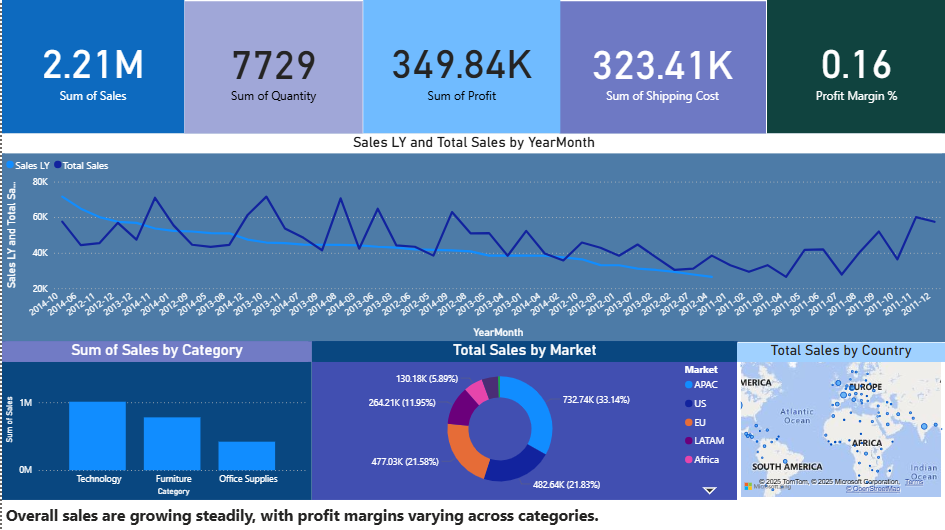

What the dashboard file says about the page in this screenshot:
{"tool":"powerbi","page":{"name":"Executive Overview","canvas":[1280,720],"ordinal":0},"visuals":[{"type":"card","fields":{"Values":["Sum(Orders.Sales)"]},"box":[0,0,247.3,181.1],"z":0},{"type":"card","fields":{"Values":["Sum(Orders.Shipping Cost)"]},"box":[756.8,1.4,279.7,179.7],"z":1000},{"type":"card","title":"Total Quantity","fields":{"Values":["Sum(Orders.Quantity)"]},"box":[247.3,1.4,241.9,179.7],"z":2000},{"type":"card","fields":{"Values":["Sum(Orders.Profit)"]},"box":[489.2,0,267.6,181.1],"z":3000},{"type":"card","fields":{"Values":["Orders.Profit Margin %"]},"box":[1036.5,0,243.2,181.1],"z":4000},{"type":"lineChart","fields":{"Category":["Date.YearMonth"],"Y":["Orders.Sales LY","Orders.Total Sales"]},"box":[0,181.1,1279.7,282.4],"z":5000},{"type":"lineClusteredColumnComboChart","fields":{"Category":["Orders.Category"],"Y":["Sum(Orders.Sales)"]},"box":[0,463.5,420.3,214.9],"z":6000},{"type":"donutChart","fields":{"Category":["Orders.Market"],"Y":["Orders.Total Sales"]},"box":[420.3,463.5,577,214.9],"z":7000},{"type":"map","fields":{"Category":["Orders.Country"],"Size":["Orders.Total Sales"]},"box":[997.3,464.9,282.4,214.9],"z":8000},{"type":"textbox","box":[0,678.4,1279.7,41.9],"z":9000}]}

Visuals, with their boxes in screenshot pixels (x1, y1, x2, y2), scaled from the page's 1280x720 canvas onto the 945x530 screenshot:
card - Sum(Orders.Sales): <region>0, 0, 183, 133</region>
card - Sum(Orders.Shipping Cost): <region>559, 1, 765, 133</region>
"Total Quantity" card: <region>183, 1, 361, 133</region>
card - Sum(Orders.Profit): <region>361, 0, 559, 133</region>
card - Orders.Profit Margin %: <region>765, 0, 944, 133</region>
lineChart - Date.YearMonth x Orders.Sales LY: <region>0, 133, 944, 341</region>
lineClusteredColumnComboChart - Orders.Category x Sum(Orders.Sales): <region>0, 341, 310, 499</region>
donutChart - Orders.Market x Orders.Total Sales: <region>310, 341, 736, 499</region>
map - Orders.Country x Orders.Total Sales: <region>736, 342, 944, 500</region>
textbox: <region>0, 499, 944, 529</region>
